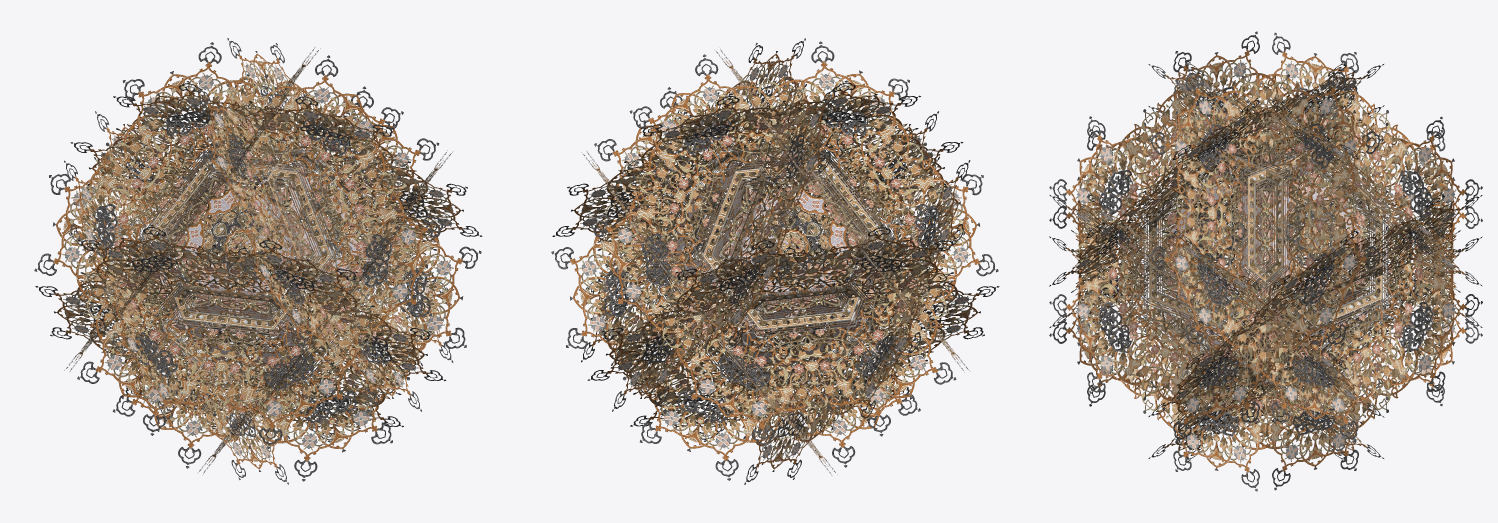
File: GreatTruncatedCuboctahedron3.gltf
The picture shows the model from 3 angles, left to right: view 1: azimuth 30°, elevation 25°; view 2: azimuth 150°, elevation 25°; view 3: azimuth 270°, elevation 25°; orthographic projection.
Parts seen in each view (by area): view 1: GreatTruncatedCuboctahedron; view 2: GreatTruncatedCuboctahedron; view 3: GreatTruncatedCuboctahedron.
Part boxes in pixels (left/top/right/bottom): GreatTruncatedCuboctahedron: left=34, top=38, right=482, bottom=484; GreatTruncatedCuboctahedron: left=551, top=38, right=999, bottom=484; GreatTruncatedCuboctahedron: left=1049, top=31, right=1482, bottom=491.
Size of the model in its own units: 1.83 by 1.83 by 1.83.
Materials: 1 (1 with a texture image).
